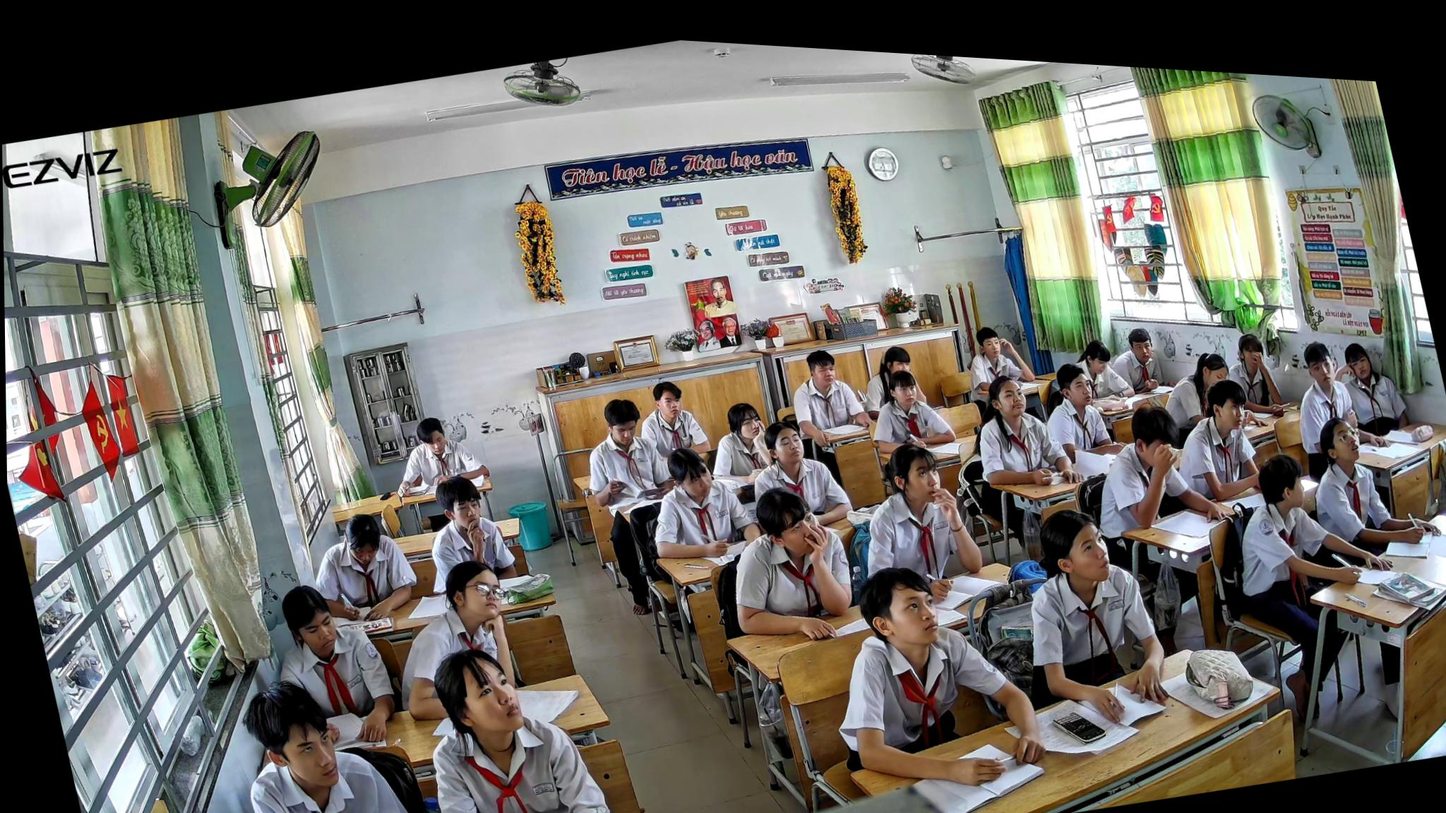person: (802, 537, 1053, 813), (1210, 431, 1423, 727), (1000, 491, 1180, 743), (403, 625, 624, 813), (1068, 387, 1252, 597), (225, 654, 446, 813), (570, 388, 701, 624), (838, 427, 992, 616), (710, 473, 866, 659), (375, 550, 533, 732), (259, 569, 406, 761), (1291, 398, 1444, 570), (635, 432, 767, 573), (958, 360, 1088, 503), (1280, 330, 1393, 487), (298, 501, 426, 637), (1161, 370, 1281, 512), (782, 341, 887, 493), (739, 408, 858, 541), (410, 465, 521, 600), (1028, 352, 1135, 489), (381, 405, 494, 507), (856, 358, 959, 461), (631, 372, 719, 490), (1321, 332, 1413, 444), (1151, 345, 1246, 451), (696, 397, 782, 510), (1218, 326, 1295, 434), (955, 316, 1041, 408), (1049, 331, 1136, 412), (854, 339, 933, 422), (1100, 322, 1170, 402)
